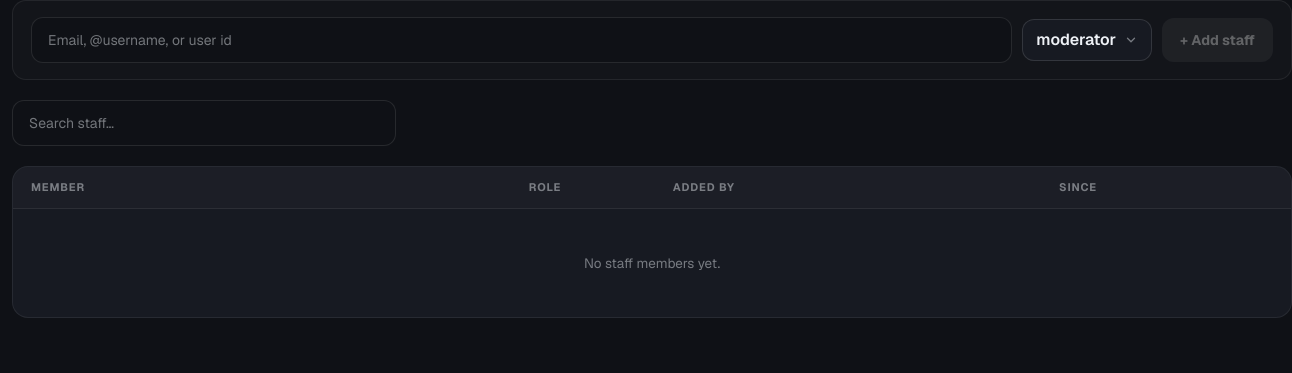
Test case: StaffTab › add staff › refuses to promote when no row matches the email exactly
Expected: the text "No staff members yet." is shown, x1=584 y1=254 x2=720 y2=272
Type "new@example.com" into the field named "Email, username, or user id of the user to add as staff" at point(522, 40), box x1=31 y1=17 x2=1012 y2=63
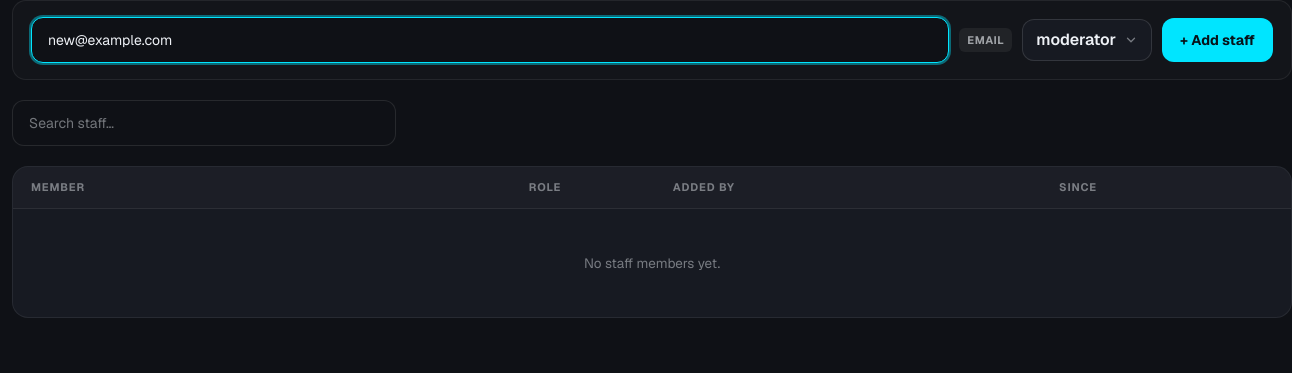
Click the button "+ Add staff" at point(1218, 40), box x1=1162 y1=18 x2=1273 y2=62
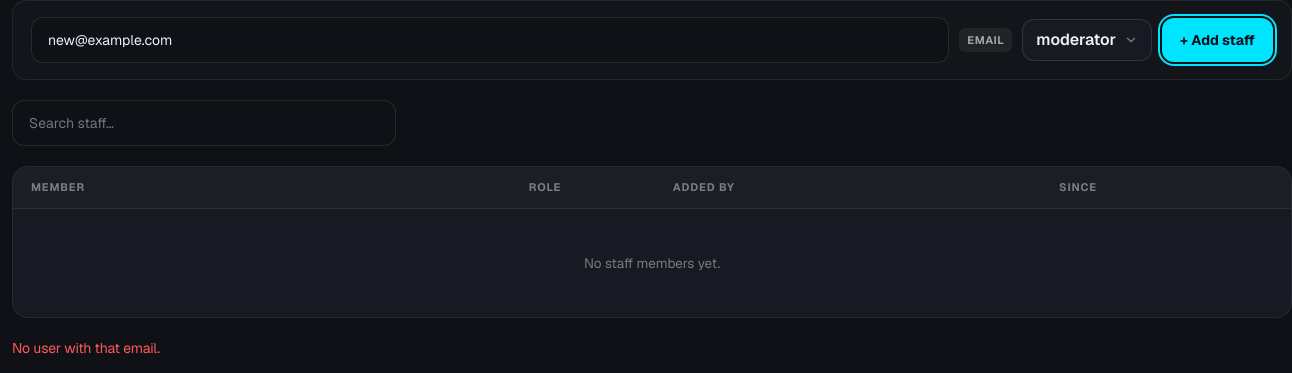
Expected: the text "No user with that email." is shown, x1=12 y1=339 x2=160 y2=357
